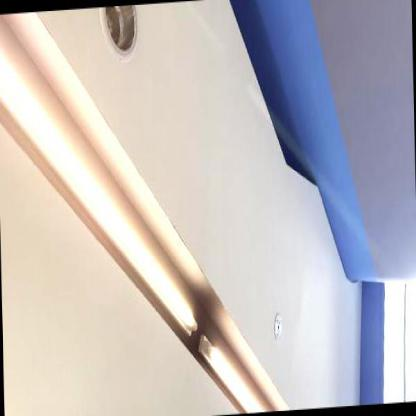light_on: (0, 35, 202, 364), (202, 332, 271, 415)
